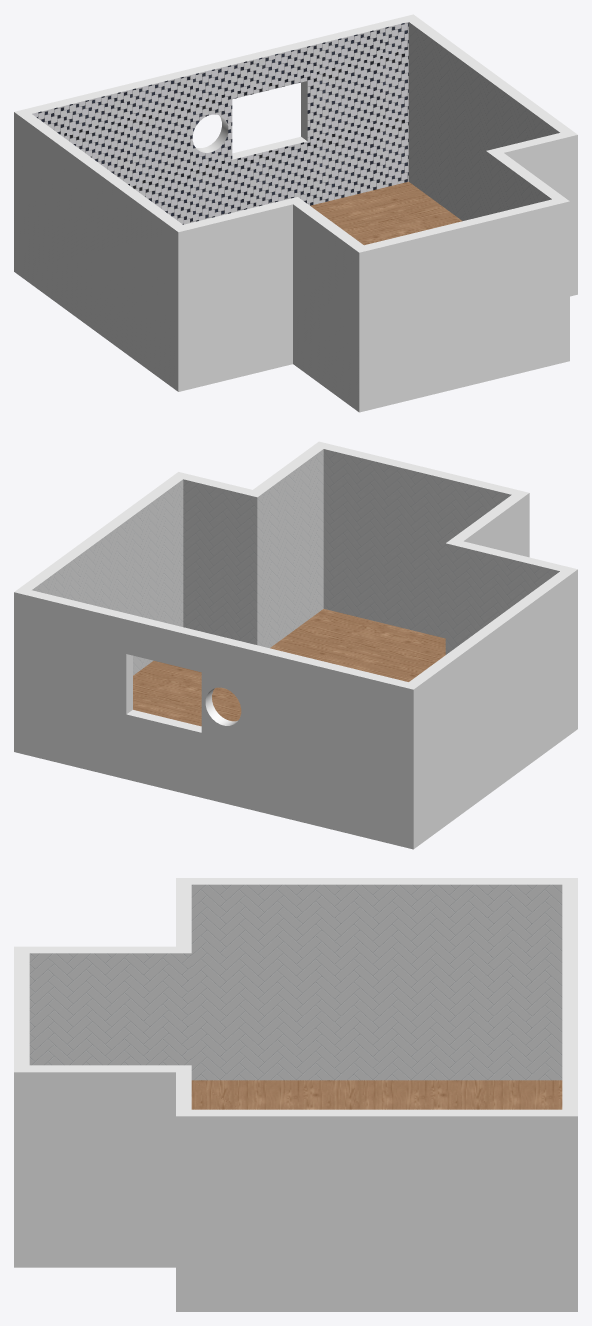
File: gachon.fbx
The picture shows the model from 3 angles, top to bottom: view 1: azimuth 30°, elevation 25°; view 2: azimuth 150°, elevation 25°; view 3: azimuth 270°, elevation 25°; orthographic projection. The views are drawn at different scales.
Parts seen in each view (by area): view 1: Model; view 2: Model; view 3: Model.
Boxes of the visible parts, bbox=[...] form: Model: bbox=[14, 14, 577, 412]; Model: bbox=[14, 441, 577, 849]; Model: bbox=[14, 878, 577, 1311].
Size of the model in its own units: 88.52 by 33.84 by 88.52.
